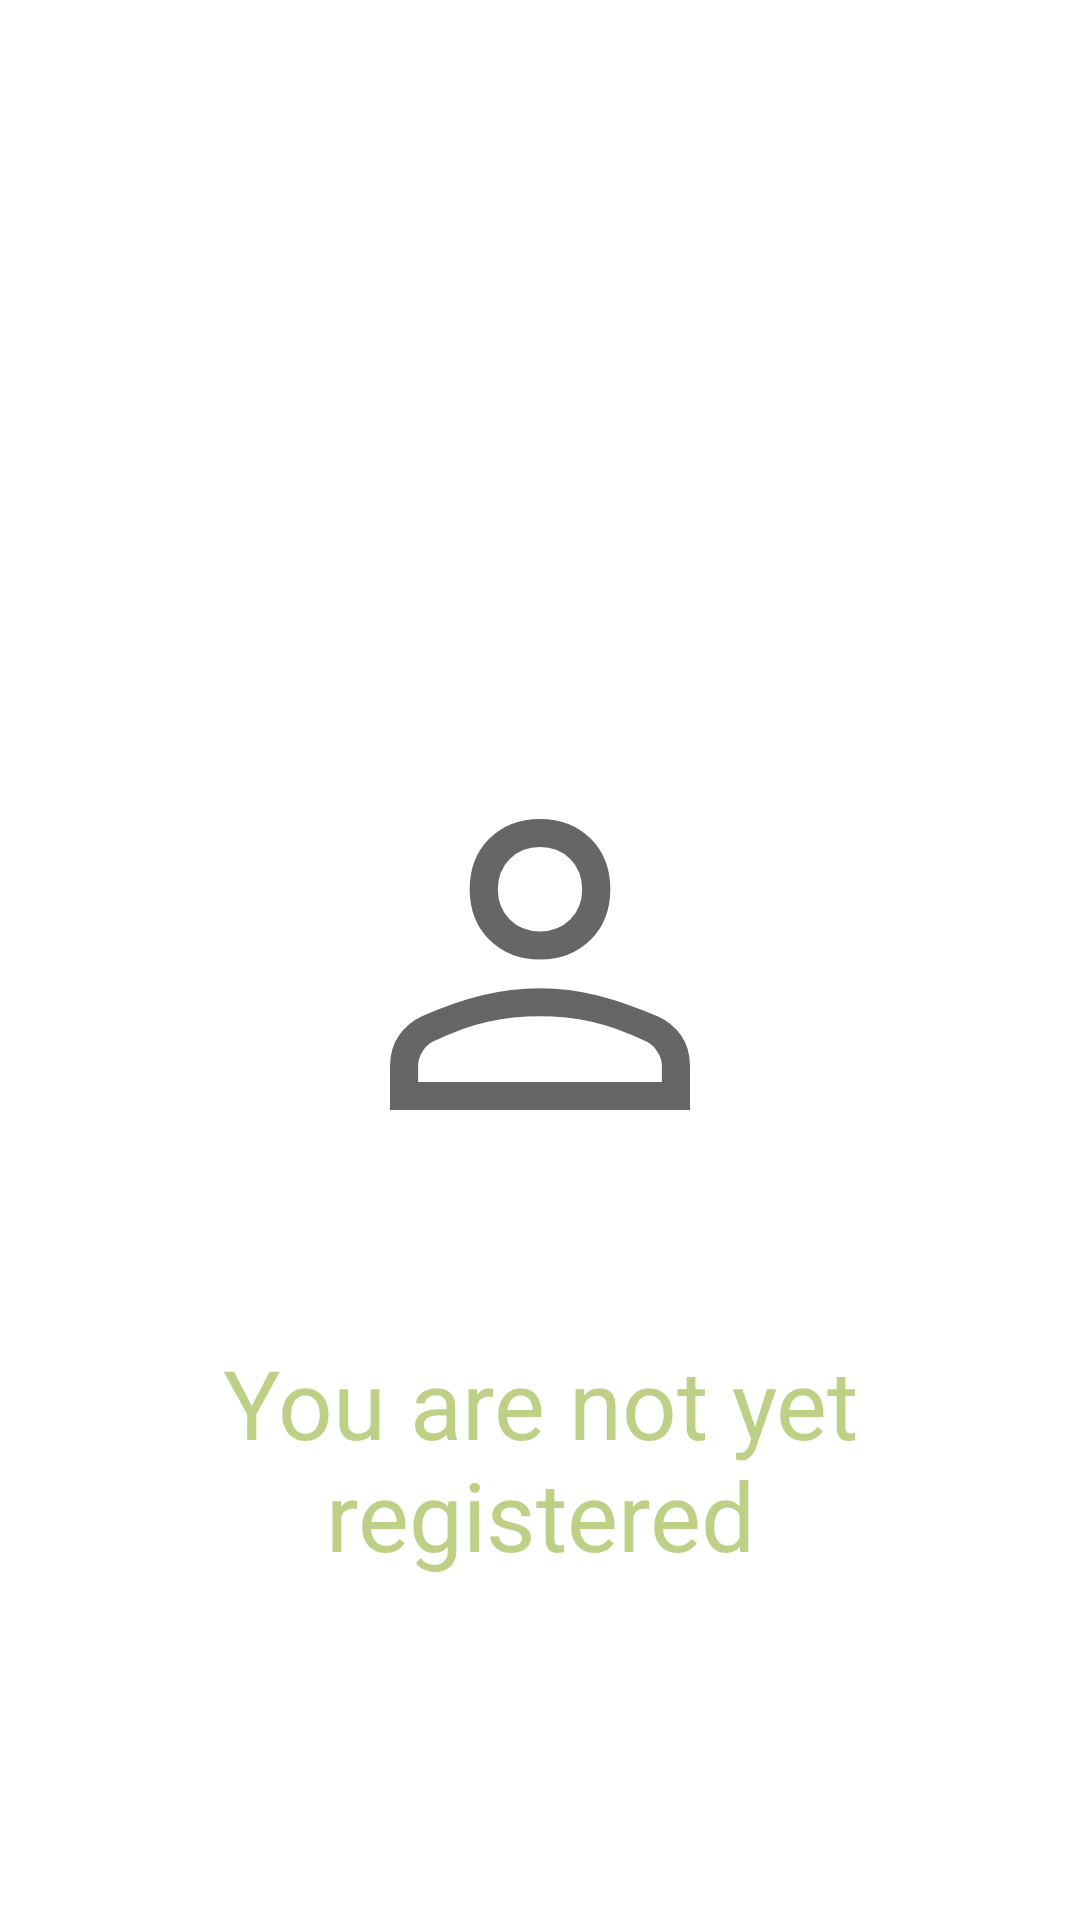

Screen size 1080 × 1920. Icon name, then its center in pixels as point (x, y):
profile: point (540, 964)
